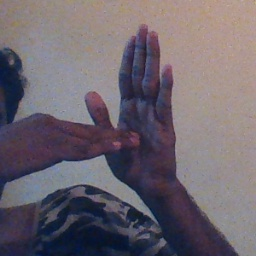Z: (51, 20, 182, 192)
